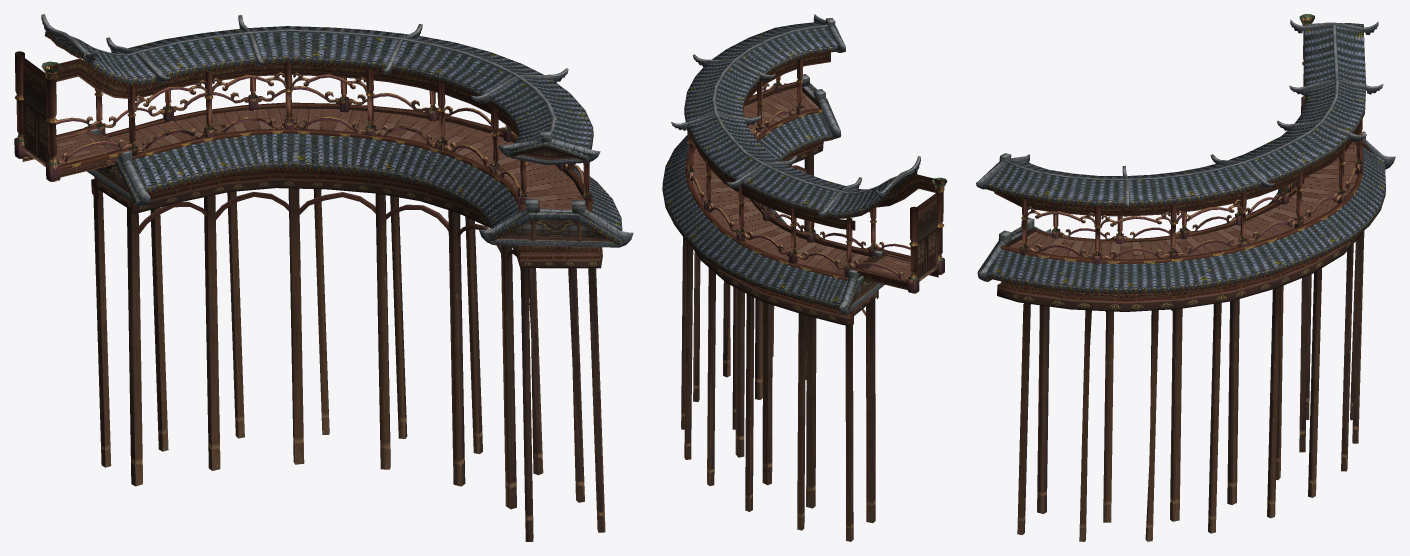
The model's file is S2_Build_XSC092.FBX.
The picture shows the model from 3 angles, left to right: view 1: azimuth 30°, elevation 25°; view 2: azimuth 150°, elevation 25°; view 3: azimuth 270°, elevation 25°; orthographic projection. The views are drawn at different scales.
Parts seen in each view (by area): view 1: S2_Build_XSC092; view 2: S2_Build_XSC092; view 3: S2_Build_XSC092.
Part boxes in pixels (x1,y1,x2,y2): S2_Build_XSC092: (14,14,633,541); S2_Build_XSC092: (662,14,947,541); S2_Build_XSC092: (976,14,1395,541).
Bounding box in the file's own units: 8934 × 9184 × 9190.
